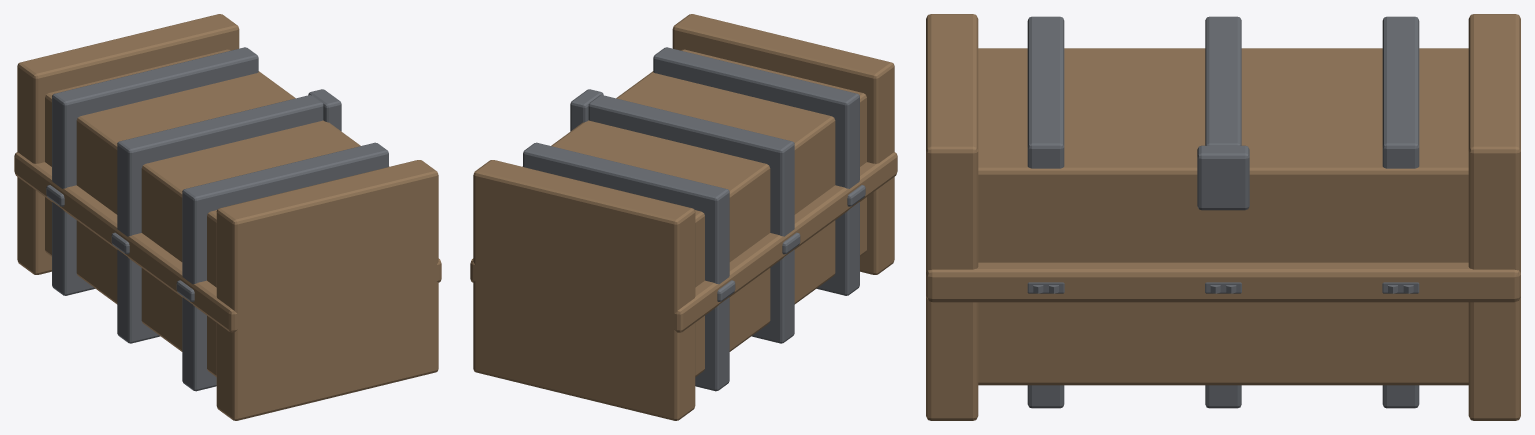
Rendered from book_chest.glb.
3 renders of one model, left to right at view 1: azimuth 30°, elevation 25°; view 2: azimuth 150°, elevation 25°; view 3: azimuth 270°, elevation 25°, orthographic. The views are drawn at different scales.
Parts seen in each view (by area): view 1: 291-book-chest/0, 291-book-chest/1, 291-book-chest/lid-chest/oak, 291-book-chest/lid-chest/iron; view 2: 291-book-chest/0, 291-book-chest/1, 291-book-chest/lid-chest/oak, 291-book-chest/lid-chest/iron; view 3: 291-book-chest/0, 291-book-chest/lid-chest/oak, 291-book-chest/1, 291-book-chest/lid-chest/iron.
Part boxes in pixels (bbox=[...]): 291-book-chest/0: bbox=[17, 14, 438, 420]; 291-book-chest/1: bbox=[52, 47, 388, 391]; 291-book-chest/lid-chest/oak: bbox=[14, 152, 441, 332]; 291-book-chest/lid-chest/iron: bbox=[46, 185, 194, 301]; 291-book-chest/0: bbox=[473, 14, 894, 420]; 291-book-chest/1: bbox=[523, 47, 859, 391]; 291-book-chest/lid-chest/oak: bbox=[470, 152, 897, 332]; 291-book-chest/lid-chest/iron: bbox=[717, 185, 865, 301]; 291-book-chest/0: bbox=[926, 14, 1520, 420]; 291-book-chest/lid-chest/oak: bbox=[926, 262, 1520, 302]; 291-book-chest/1: bbox=[1027, 16, 1419, 408]; 291-book-chest/lid-chest/iron: bbox=[1027, 282, 1419, 293].
Bounding box in the file's own units: 1.16 × 1.02 × 2.
